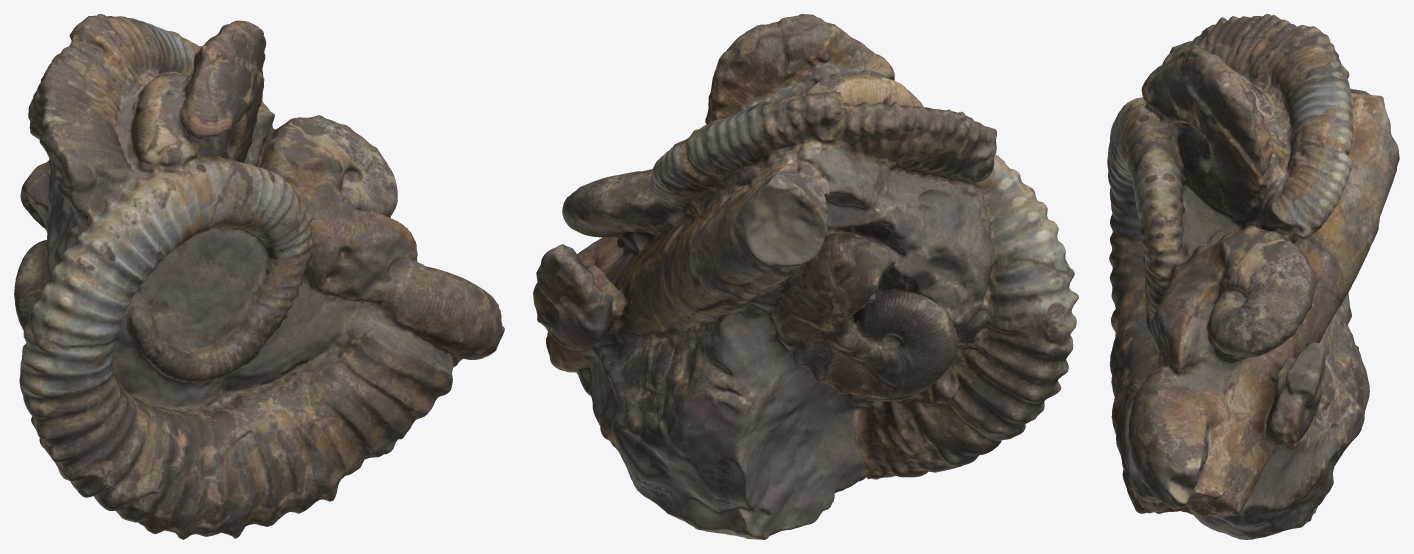
3 renders of one model, left to right at view 1: azimuth 30°, elevation 25°; view 2: azimuth 150°, elevation 25°; view 3: azimuth 270°, elevation 25°, orthographic. The views are drawn at different scales.
Parts seen in each view (by area): view 1: Exiteloceras_jenneyi_-Whitfield-unwrapped-webmulti; view 2: Exiteloceras_jenneyi_-Whitfield-unwrapped-webmulti; view 3: Exiteloceras_jenneyi_-Whitfield-unwrapped-webmulti.
Boxes of the visible parts, x1=… form: Exiteloceras_jenneyi_-Whitfield-unwrapped-webmulti: x1=14, y1=14, x2=504, y2=539; Exiteloceras_jenneyi_-Whitfield-unwrapped-webmulti: x1=533, y1=14, x2=1078, y2=539; Exiteloceras_jenneyi_-Whitfield-unwrapped-webmulti: x1=1107, y1=14, x2=1399, y2=539.
Bounding box in the file's own units: 4915 × 4682 × 2699.
Materials: 1 (1 with a texture image).
